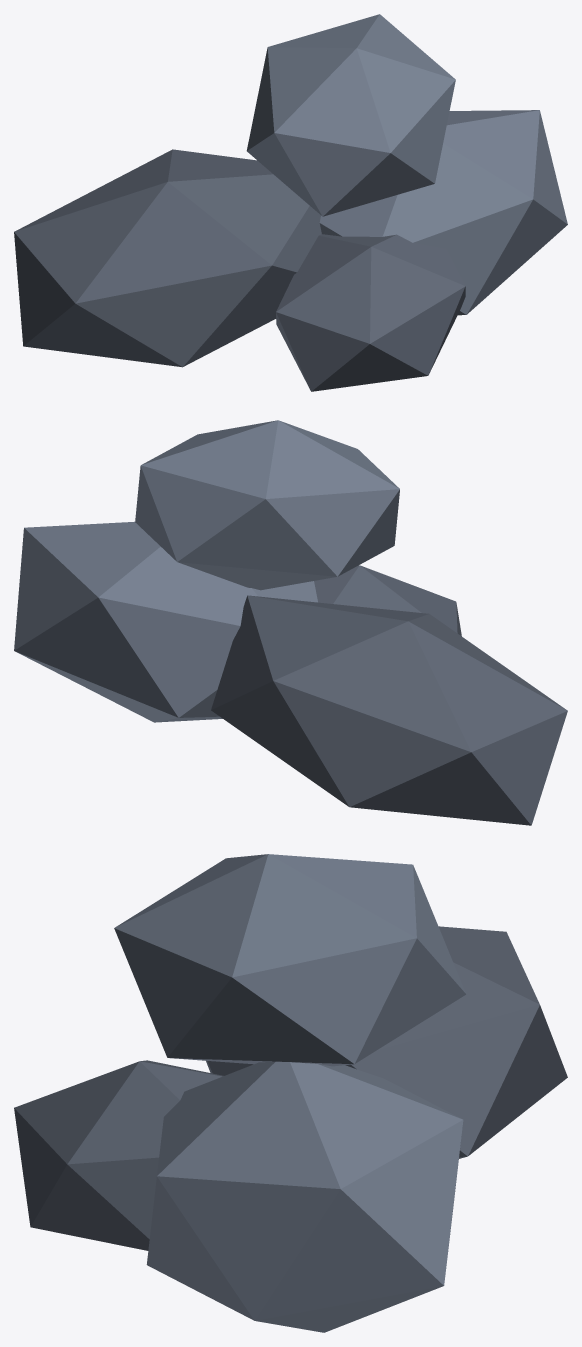
File: EXTG_BranchCairn_West.glb
3 views of the same model, one above another, from view 1: azimuth 30°, elevation 25°; view 2: azimuth 150°, elevation 25°; view 3: azimuth 270°, elevation 25° (orthographic). The views are drawn at different scales.
Parts seen in each view (by area): view 1: EXTG_BranchCairn_West; view 2: EXTG_BranchCairn_West; view 3: EXTG_BranchCairn_West.
Boxes of the visible parts, bbox=[...] form: EXTG_BranchCairn_West: bbox=[14, 14, 567, 391]; EXTG_BranchCairn_West: bbox=[14, 420, 567, 825]; EXTG_BranchCairn_West: bbox=[14, 854, 567, 1332].
Size of the model in its own units: 0.9474 by 0.5286 by 0.6426.
